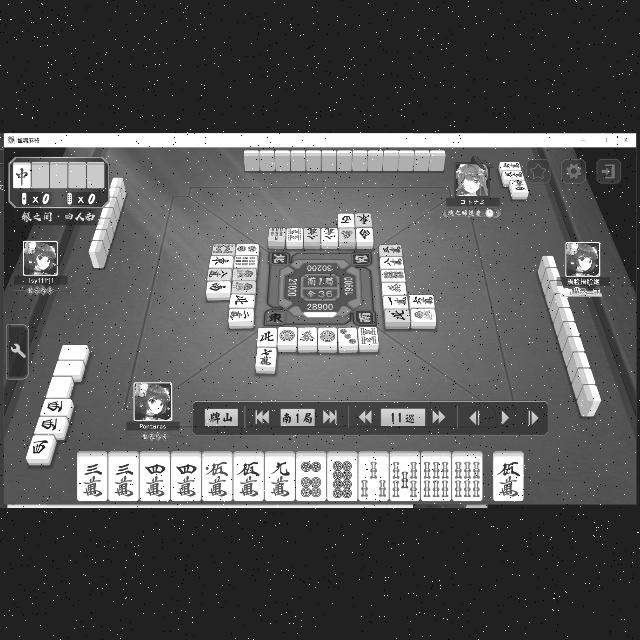1m: (374, 294, 412, 310)
1p: (318, 326, 338, 350), (277, 326, 295, 350)
1s: (410, 308, 440, 324), (228, 278, 260, 292), (230, 262, 256, 278)
2m: (230, 310, 252, 322)
2p: (238, 240, 258, 256)
3m: (74, 450, 106, 502), (111, 454, 139, 498), (376, 241, 404, 257)
3p: (336, 324, 358, 346)
3s: (358, 451, 390, 501)
4m: (141, 449, 169, 501), (171, 454, 201, 502), (510, 178, 530, 198)
5m: (493, 450, 529, 500), (198, 454, 232, 501), (236, 454, 264, 500), (504, 168, 526, 180)
5s: (386, 450, 422, 502)
6m: (494, 154, 526, 170), (408, 290, 436, 308)
6p: (296, 454, 324, 504)
6s: (450, 451, 486, 504), (421, 451, 452, 501)
7m: (256, 345, 276, 369)
7s: (264, 220, 288, 248)
8m: (202, 264, 230, 282), (375, 258, 413, 268), (319, 227, 336, 249), (302, 226, 318, 247)
8p: (331, 453, 354, 502), (378, 266, 408, 280)
8s: (356, 324, 382, 350), (284, 222, 304, 246), (213, 239, 235, 257)
9m: (268, 451, 294, 499)
9s: (233, 252, 261, 270)
chun: (12, 161, 30, 189)
haku: (49, 356, 86, 378), (42, 372, 72, 398), (55, 341, 93, 359)
hatsu: (337, 226, 358, 247), (298, 324, 316, 346), (385, 280, 407, 294)
nan: (210, 282, 232, 296), (356, 229, 372, 247)
pe: (384, 306, 410, 324), (256, 326, 278, 346), (231, 292, 253, 306)
sha: (36, 394, 72, 418), (28, 438, 52, 467), (33, 418, 71, 436), (340, 210, 354, 227)
tou: (208, 254, 236, 266), (354, 211, 372, 225)
